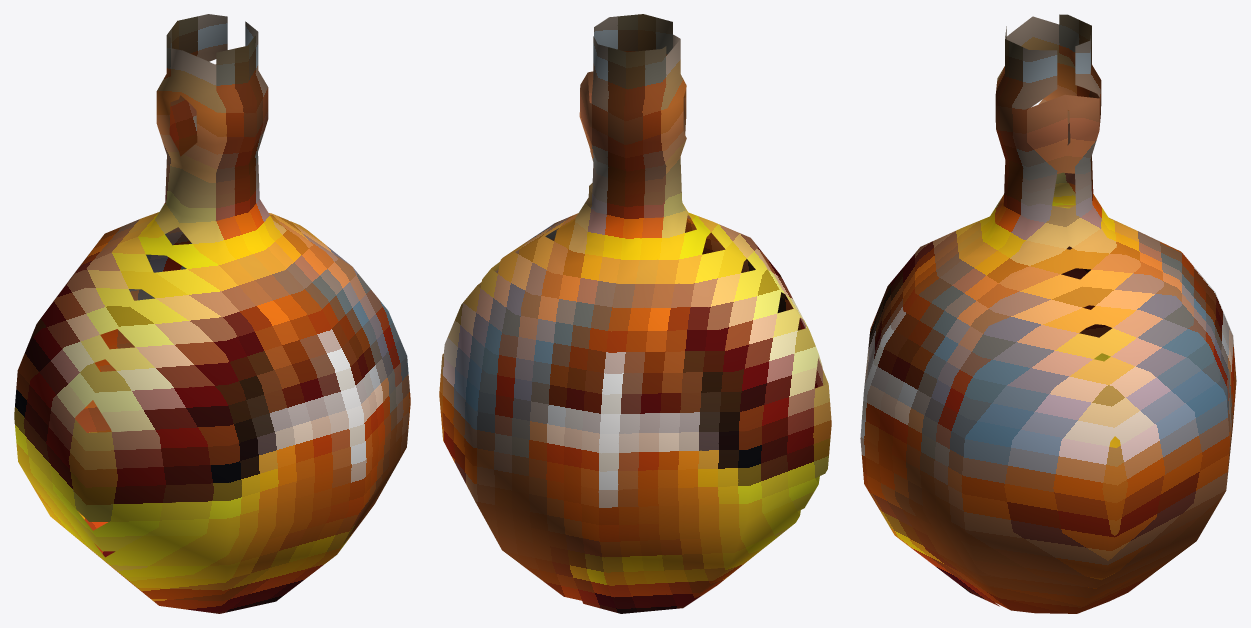
File: GreedySalvation.fbx
3 views of the same model, side by side, from view 1: azimuth 30°, elevation 25°; view 2: azimuth 150°, elevation 25°; view 3: azimuth 270°, elevation 25° (orthographic).
Visible parts, largest first — view 1: Item_GreedySalvation; view 2: Item_GreedySalvation; view 3: Item_GreedySalvation.
Part boxes in pixels (bbox=[...]): Item_GreedySalvation: bbox=[14, 14, 410, 613]; Item_GreedySalvation: bbox=[439, 14, 831, 613]; Item_GreedySalvation: bbox=[860, 14, 1236, 613].
Bounding box in the file's own units: 0.3341 × 0.5376 × 0.3341.
Materials: 1 (1 with a texture image).
